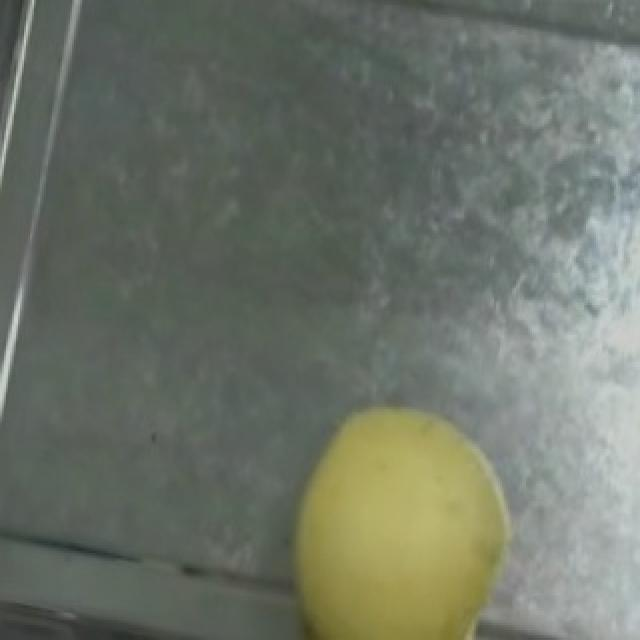Fruit: (252, 377, 548, 640)
